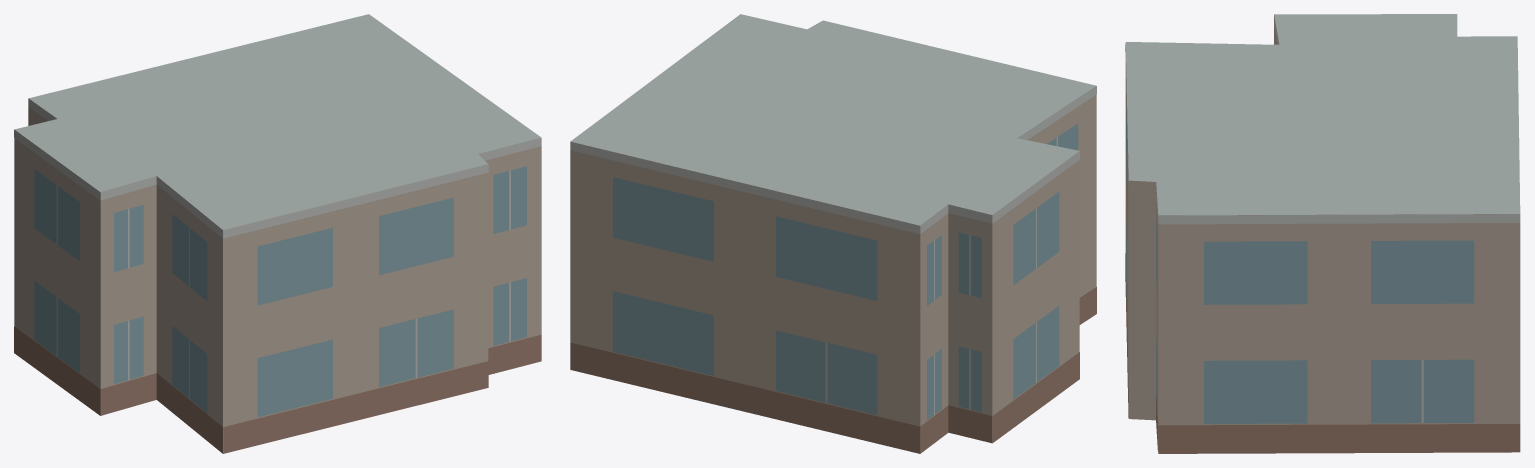
Rendered from survey-upis-32913137.glb.
3 views of the same model, side by side, from view 1: azimuth 30°, elevation 25°; view 2: azimuth 150°, elevation 25°; view 3: azimuth 270°, elevation 25° (orthographic). The views are drawn at different scales.
Parts seen in each view (by area): view 1: survey-upis-32913137.tmp; view 2: survey-upis-32913137.tmp; view 3: survey-upis-32913137.tmp.
Part boxes in pixels (x1,y1,x2,y2): survey-upis-32913137.tmp: (14, 14, 541, 453); survey-upis-32913137.tmp: (570, 14, 1096, 453); survey-upis-32913137.tmp: (1125, 14, 1520, 453).
Size of the model in its own units: 11.79 by 6.5 by 9.76.
